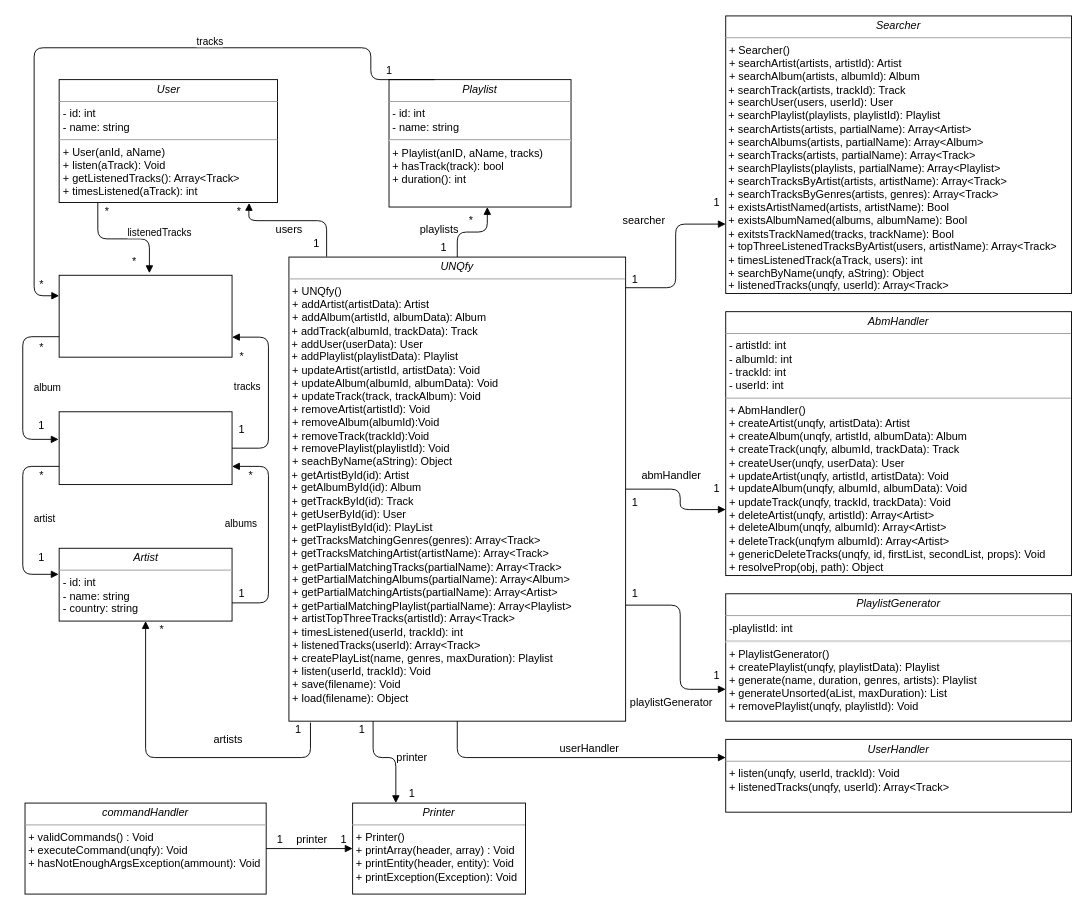
The diagram is 1087 pixels wide and 910 high, and some of its shapes have lost their labels. Each missing label, with the centre of its shape:
"Album - id: int - name: string - year: string" goes at [145,448].
"Track - id: int - name: string - genres: Array<string> - duration : int" goes at [145,315].
